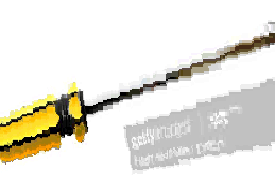screwdriver: (1, 20, 274, 163)
